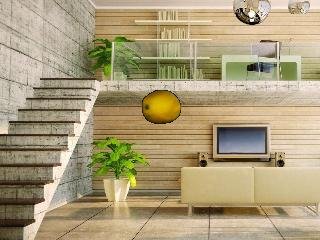lemon: (143, 91, 180, 124)
